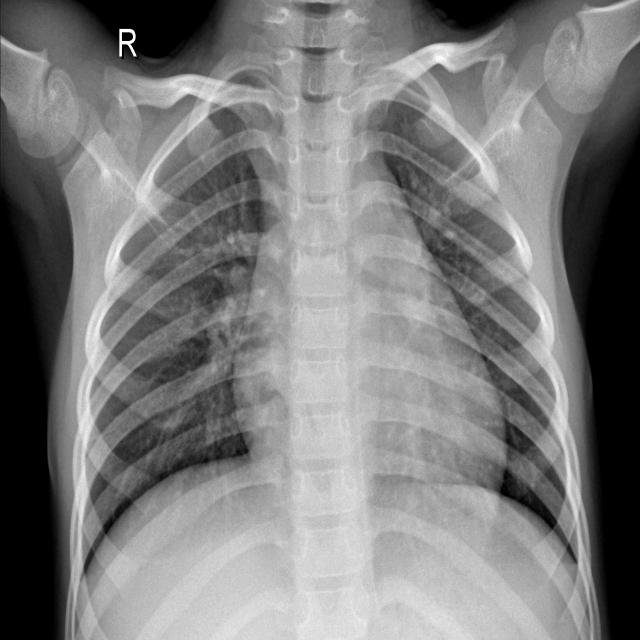no-pneumonia: (356, 81, 592, 597), (71, 86, 283, 604)
